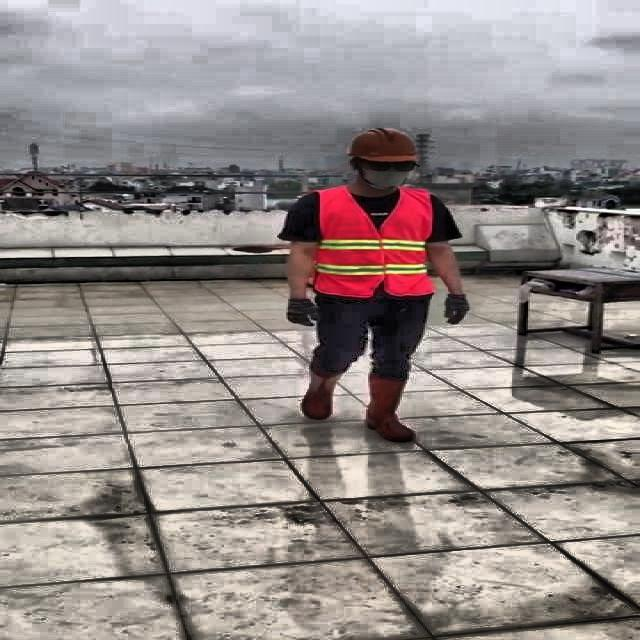safety_helmet: (342, 128, 425, 168)
safety_jacket: (318, 186, 436, 297)
